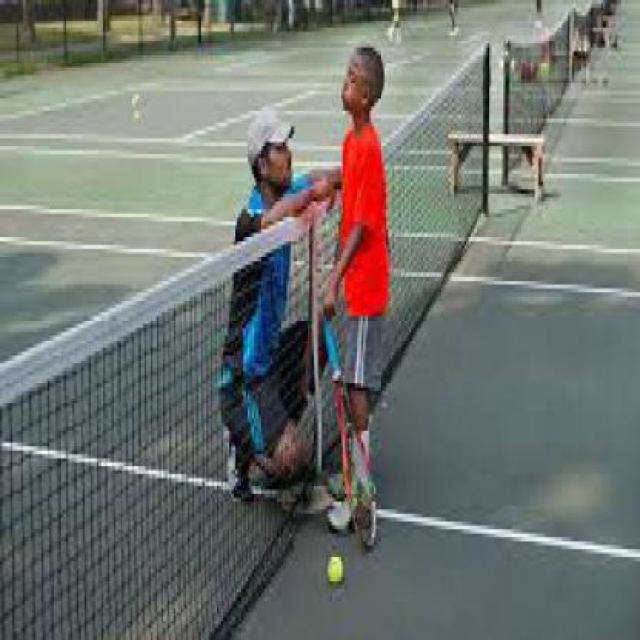Tennis_Ball: (328, 558, 343, 582)
